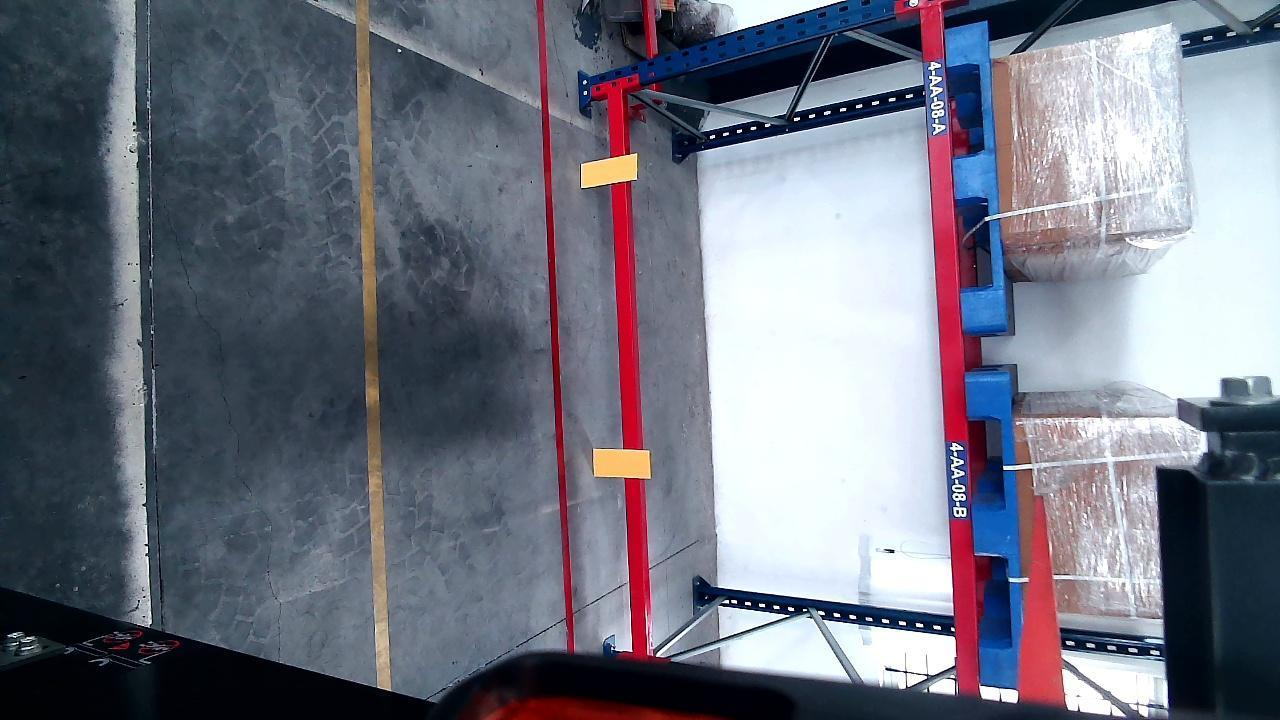h_rack: (921, 0, 981, 696), (607, 79, 647, 658)
orange_strip: (580, 154, 637, 187), (593, 447, 649, 477)
red_line: (539, 15, 576, 662)
small_pallet: (943, 19, 1008, 334), (968, 372, 1031, 685)
yellow_line: (355, 2, 392, 690)
